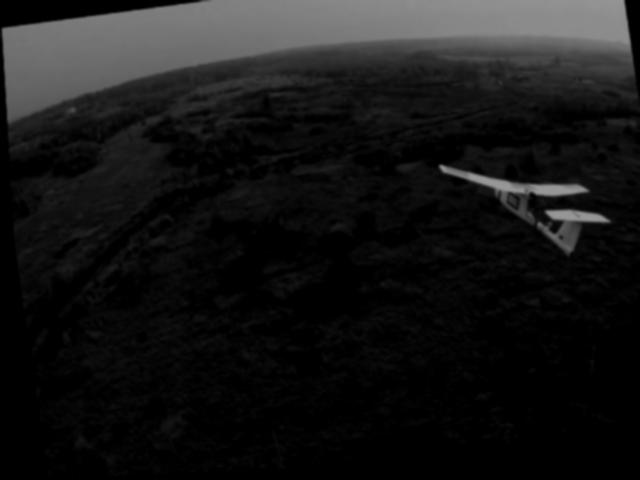hedef: (434, 141, 614, 290)
